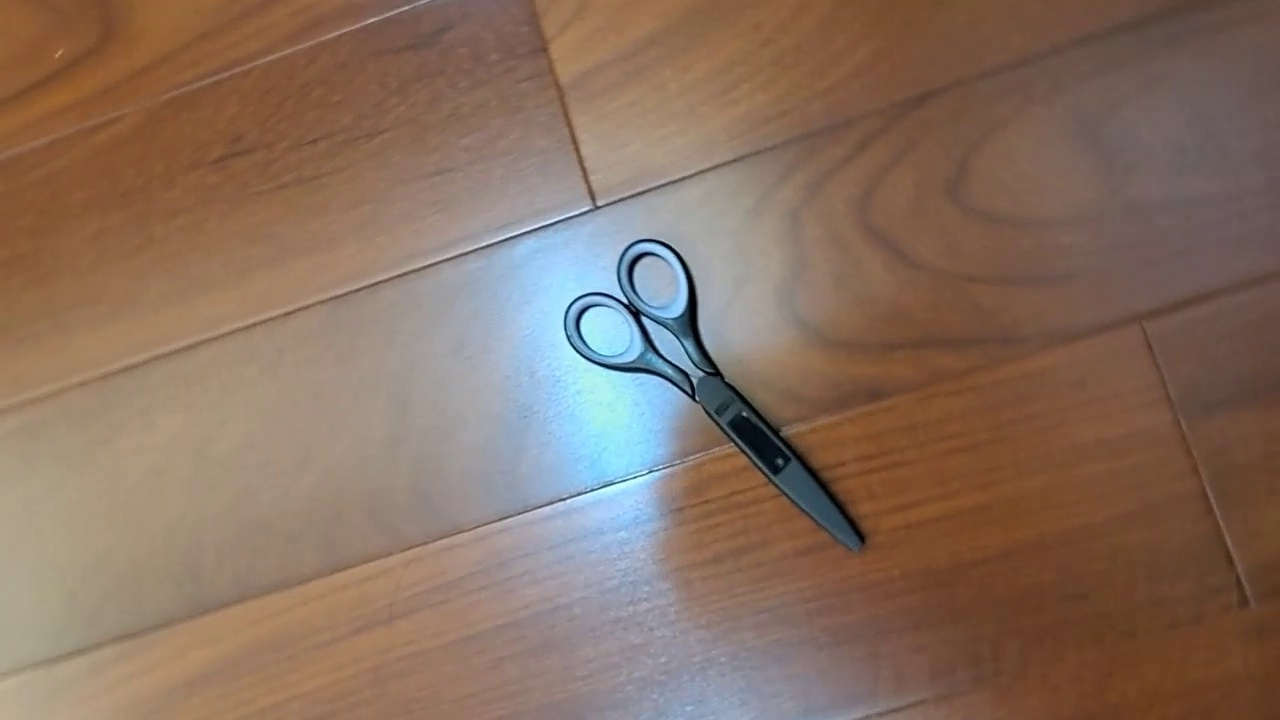scissors: (563, 237, 867, 554)
